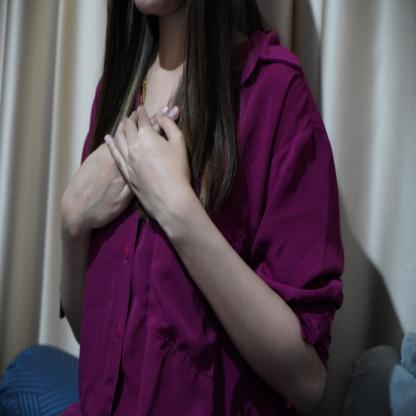Grieve: (51, 98, 214, 263)
